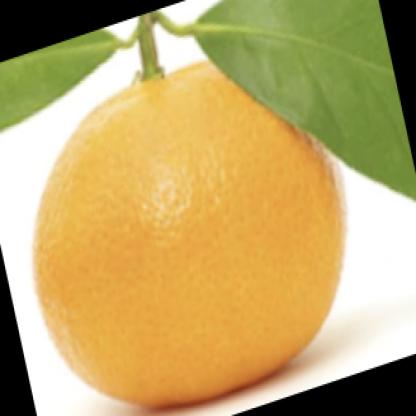orange: (20, 55, 356, 411)
